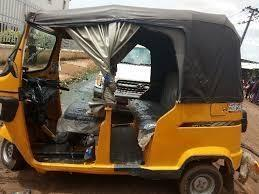keke: (0, 4, 248, 194)
